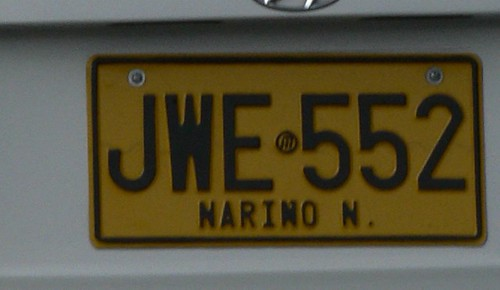placa_carro: (78, 49, 489, 256)
